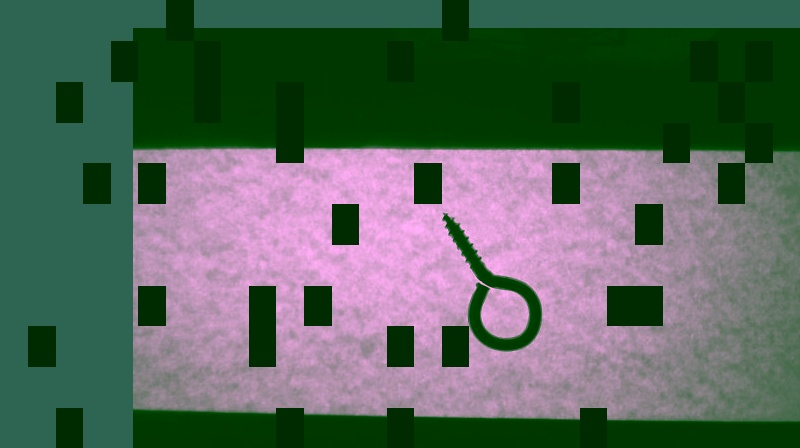O001: (438, 207, 545, 355)
